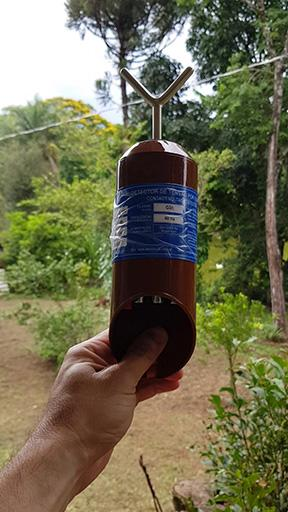Detector_Tensao_Contato: (108, 64, 197, 380)
